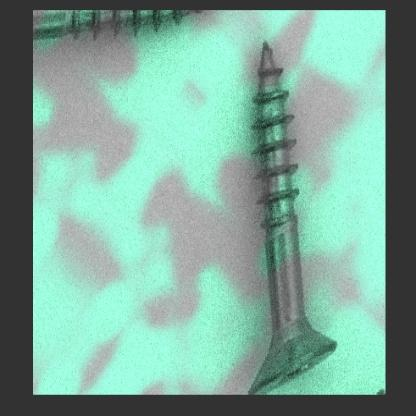metal: (246, 41, 338, 396)
